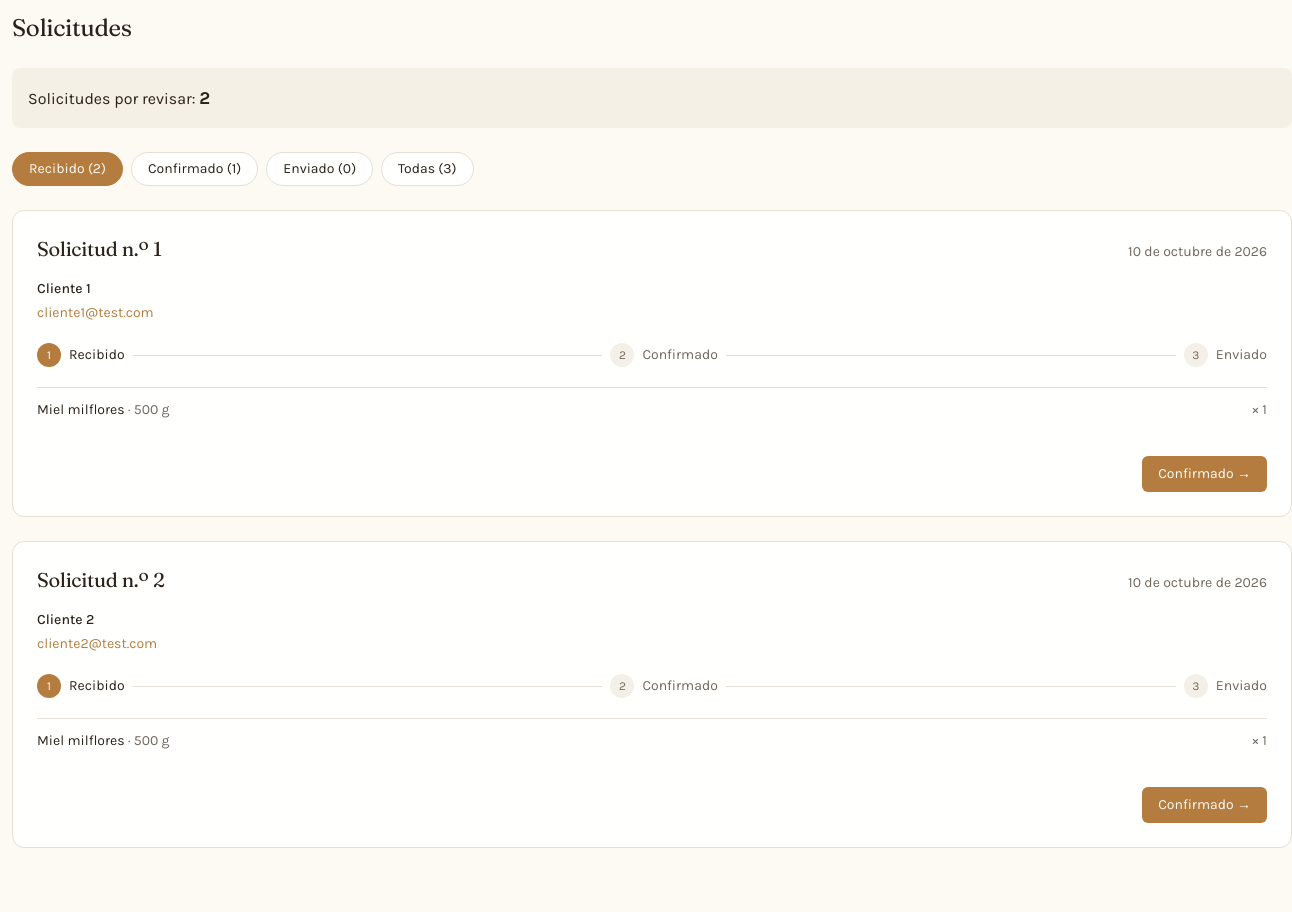
AdminOrdersView › al avanzar una solicitud la actualiza, confirma el cambio y pide de nuevo el resumen
The image size is (1292, 912).
Click the button with aria-label "Marcar la solicitud n.º 1 como Confirmado" at (1205, 474), box [1142, 456, 1267, 492]
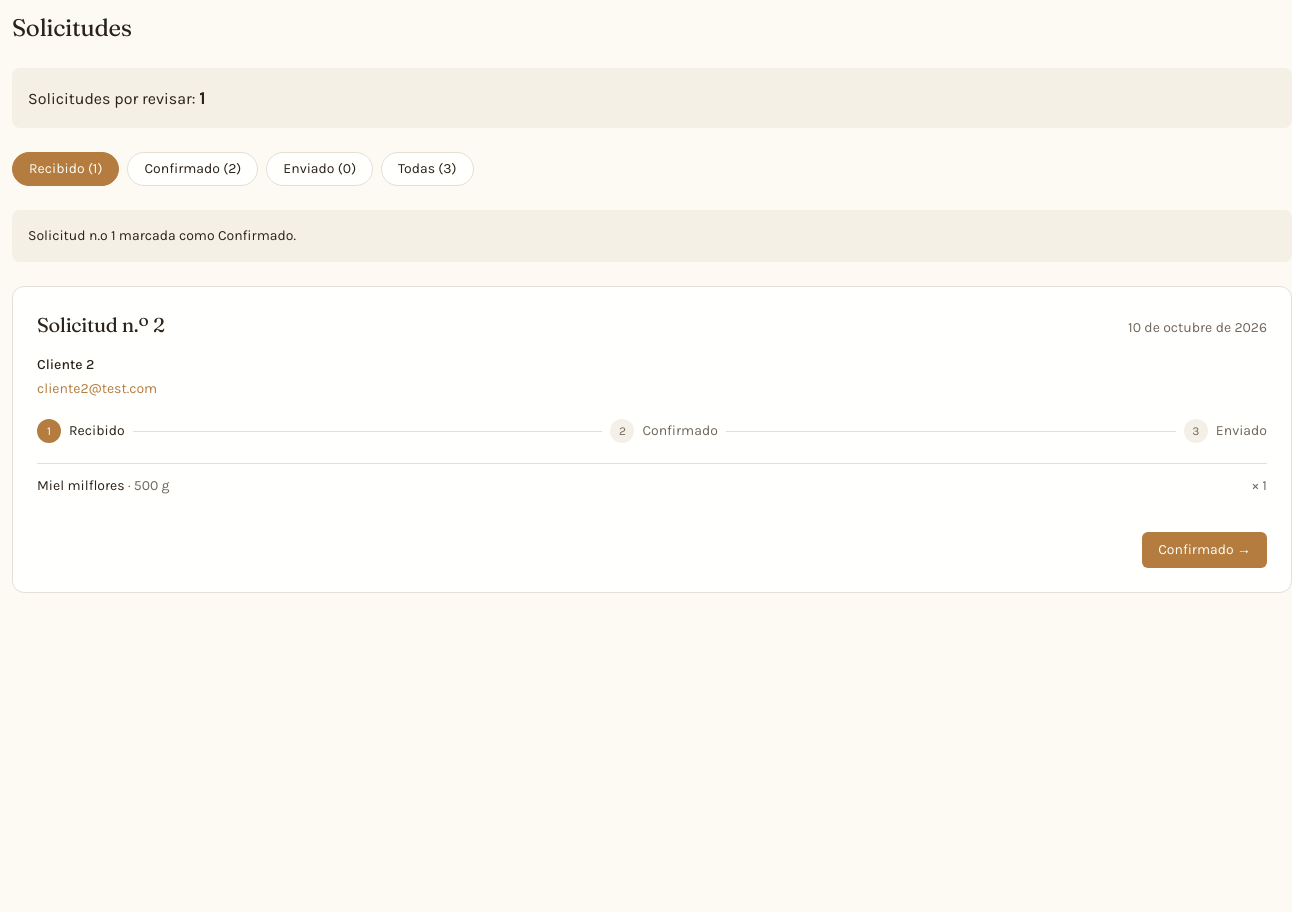
Result: the message "Solicitud n.º 1 marcada como Confirmado." is shown at [12, 210, 1291, 262]
Result: the text "1" next to "Solicitudes por revisar:" is shown at [199, 87, 206, 109]
